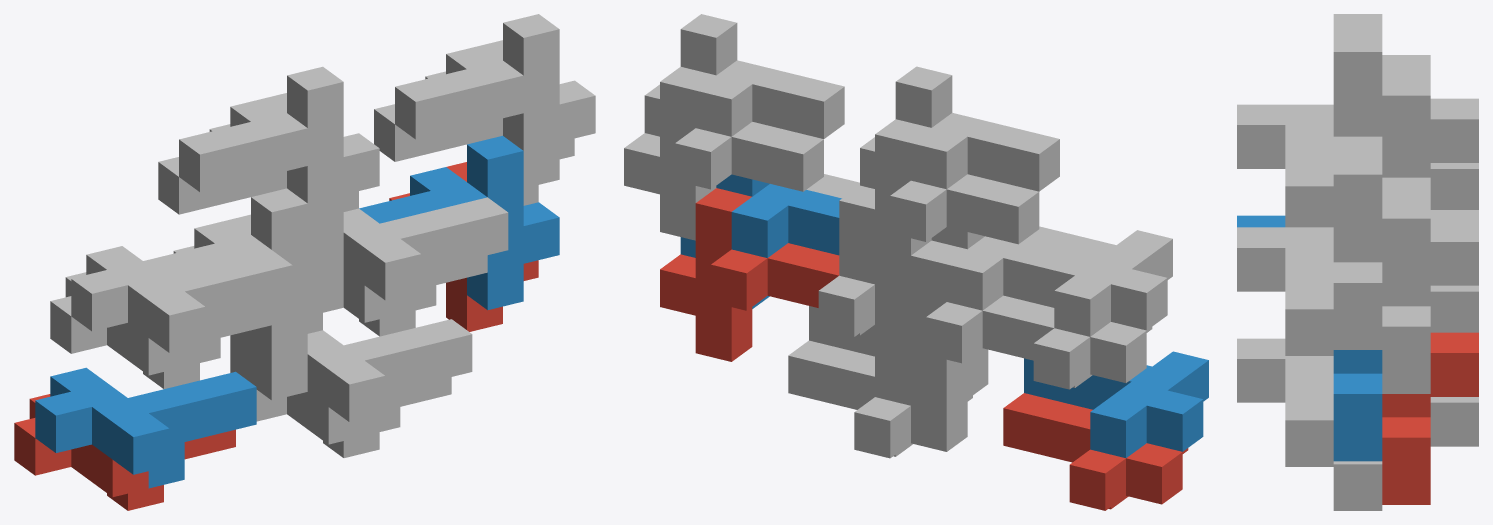
File: tiling.obj
3 renders of one model, left to right at view 1: azimuth 30°, elevation 25°; view 2: azimuth 150°, elevation 25°; view 3: azimuth 270°, elevation 25°, orthographic. The views are drawn at different scales.
Visible parts, largest first — view 1: copy_2_domain_4, copy_2_domain_8, copy_1_domain_4, copy_1_domain_2, copy_1_domain_6, copy_1_domain_8, copy_2_domain_6, copy_2_domain_2, copy_1_domain_3, copy_1_domain_1, copy_1_domain_5, copy_2_domain_7 (+4 smaller); view 2: copy_2_domain_3, copy_2_domain_7, copy_2_domain_5, copy_2_domain_1, copy_2_domain_8, copy_2_domain_4, copy_1_domain_2, copy_1_domain_1, copy_1_domain_4, copy_1_domain_5, copy_2_domain_2, copy_2_domain_6 (+4 smaller); view 3: copy_2_domain_7, copy_2_domain_8, copy_1_domain_8, copy_1_domain_4, copy_2_domain_5, copy_1_domain_6, copy_2_domain_3, copy_2_domain_4, copy_2_domain_6, copy_1_domain_5, copy_1_domain_7, copy_1_domain_3 (+2 smaller).
Boxes of the visible parts, x1,y1,x2,y2 form: copy_2_domain_4: [179, 66, 379, 240]; copy_2_domain_8: [395, 14, 595, 188]; copy_1_domain_4: [71, 246, 292, 366]; copy_1_domain_2: [35, 367, 256, 488]; copy_1_domain_6: [251, 319, 472, 435]; copy_1_domain_8: [307, 197, 508, 313]; copy_2_domain_6: [359, 135, 559, 310]; copy_2_domain_2: [143, 188, 343, 362]; copy_1_domain_3: [50, 272, 271, 388]; copy_1_domain_1: [14, 394, 235, 510]; copy_1_domain_5: [230, 370, 451, 457]; copy_2_domain_7: [374, 40, 574, 205]; copy_2_domain_3: [839, 119, 1039, 292]; copy_2_domain_7: [624, 66, 823, 240]; copy_2_domain_5: [660, 188, 839, 361]; copy_2_domain_1: [875, 240, 1054, 414]; copy_2_domain_8: [644, 14, 844, 138]; copy_2_domain_4: [860, 66, 1059, 191]; copy_1_domain_2: [1024, 351, 1208, 457]; copy_1_domain_1: [1003, 393, 1188, 510]; copy_1_domain_4: [1022, 226, 1172, 336]; copy_1_domain_5: [788, 340, 972, 458]; copy_2_domain_2: [931, 227, 1095, 361]; copy_2_domain_6: [680, 174, 841, 308]; copy_2_domain_7: [1382, 198, 1478, 393]; copy_2_domain_8: [1333, 136, 1430, 349]; copy_1_domain_8: [1237, 227, 1333, 355]; copy_1_domain_4: [1237, 104, 1333, 227]; copy_2_domain_5: [1382, 332, 1478, 504]; copy_1_domain_6: [1237, 338, 1333, 466]; copy_2_domain_3: [1382, 75, 1478, 177]; copy_2_domain_4: [1333, 14, 1430, 136]; copy_2_domain_6: [1333, 350, 1382, 461]; copy_1_domain_5: [1333, 397, 1478, 510]; copy_1_domain_7: [1430, 285, 1478, 332]; copy_1_domain_3: [1430, 163, 1478, 209].
Bounding box in the file's own units: 15 × 10 × 5.
